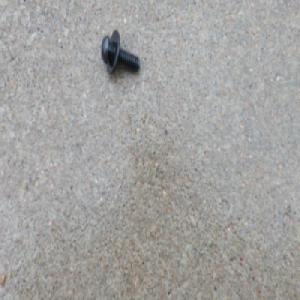BoltWasher: (100, 28, 140, 76)
